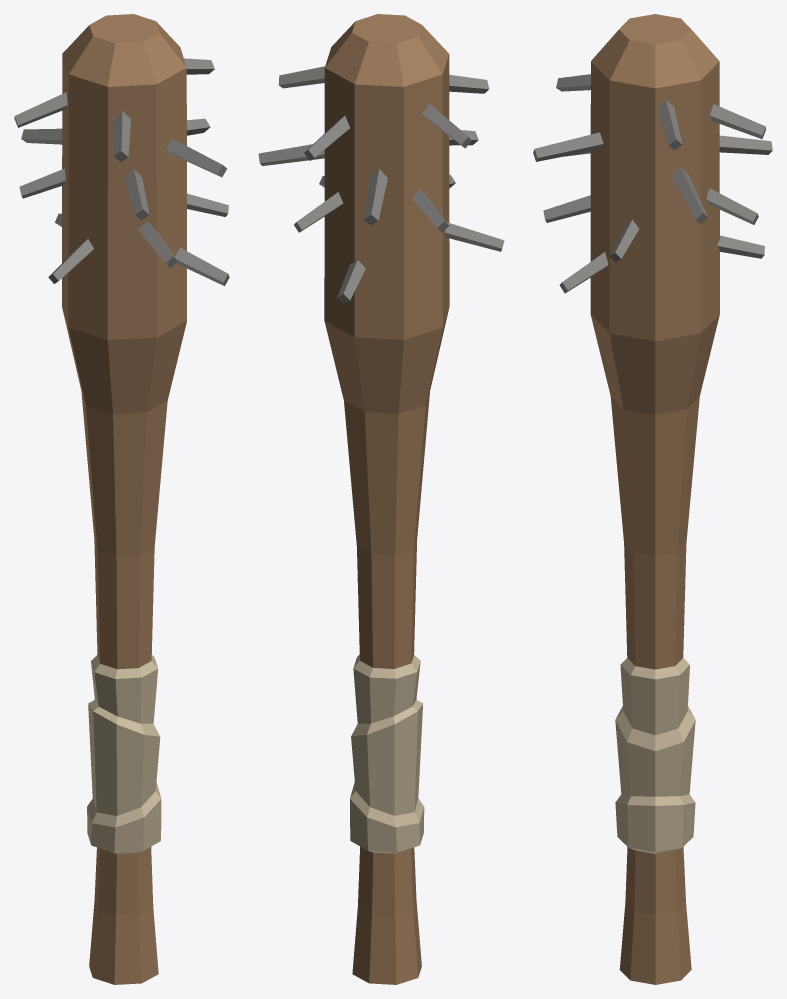
File: SM_pwe_medieval_club_01b.fbx
3 views of the same model, side by side, from view 1: azimuth 30°, elevation 25°; view 2: azimuth 150°, elevation 25°; view 3: azimuth 270°, elevation 25° (orthographic).
Visible parts, largest first — view 1: SM_pwe_medieval_club_01b; view 2: SM_pwe_medieval_club_01b; view 3: SM_pwe_medieval_club_01b.
Part boxes in pixels (x1=…): SM_pwe_medieval_club_01b: x1=14, y1=14, x2=229, y2=984; SM_pwe_medieval_club_01b: x1=258, y1=14, x2=504, y2=984; SM_pwe_medieval_club_01b: x1=533, y1=14, x2=772, y2=984.
Size of the model in its own units: 15.46 by 68.83 by 15.91.
